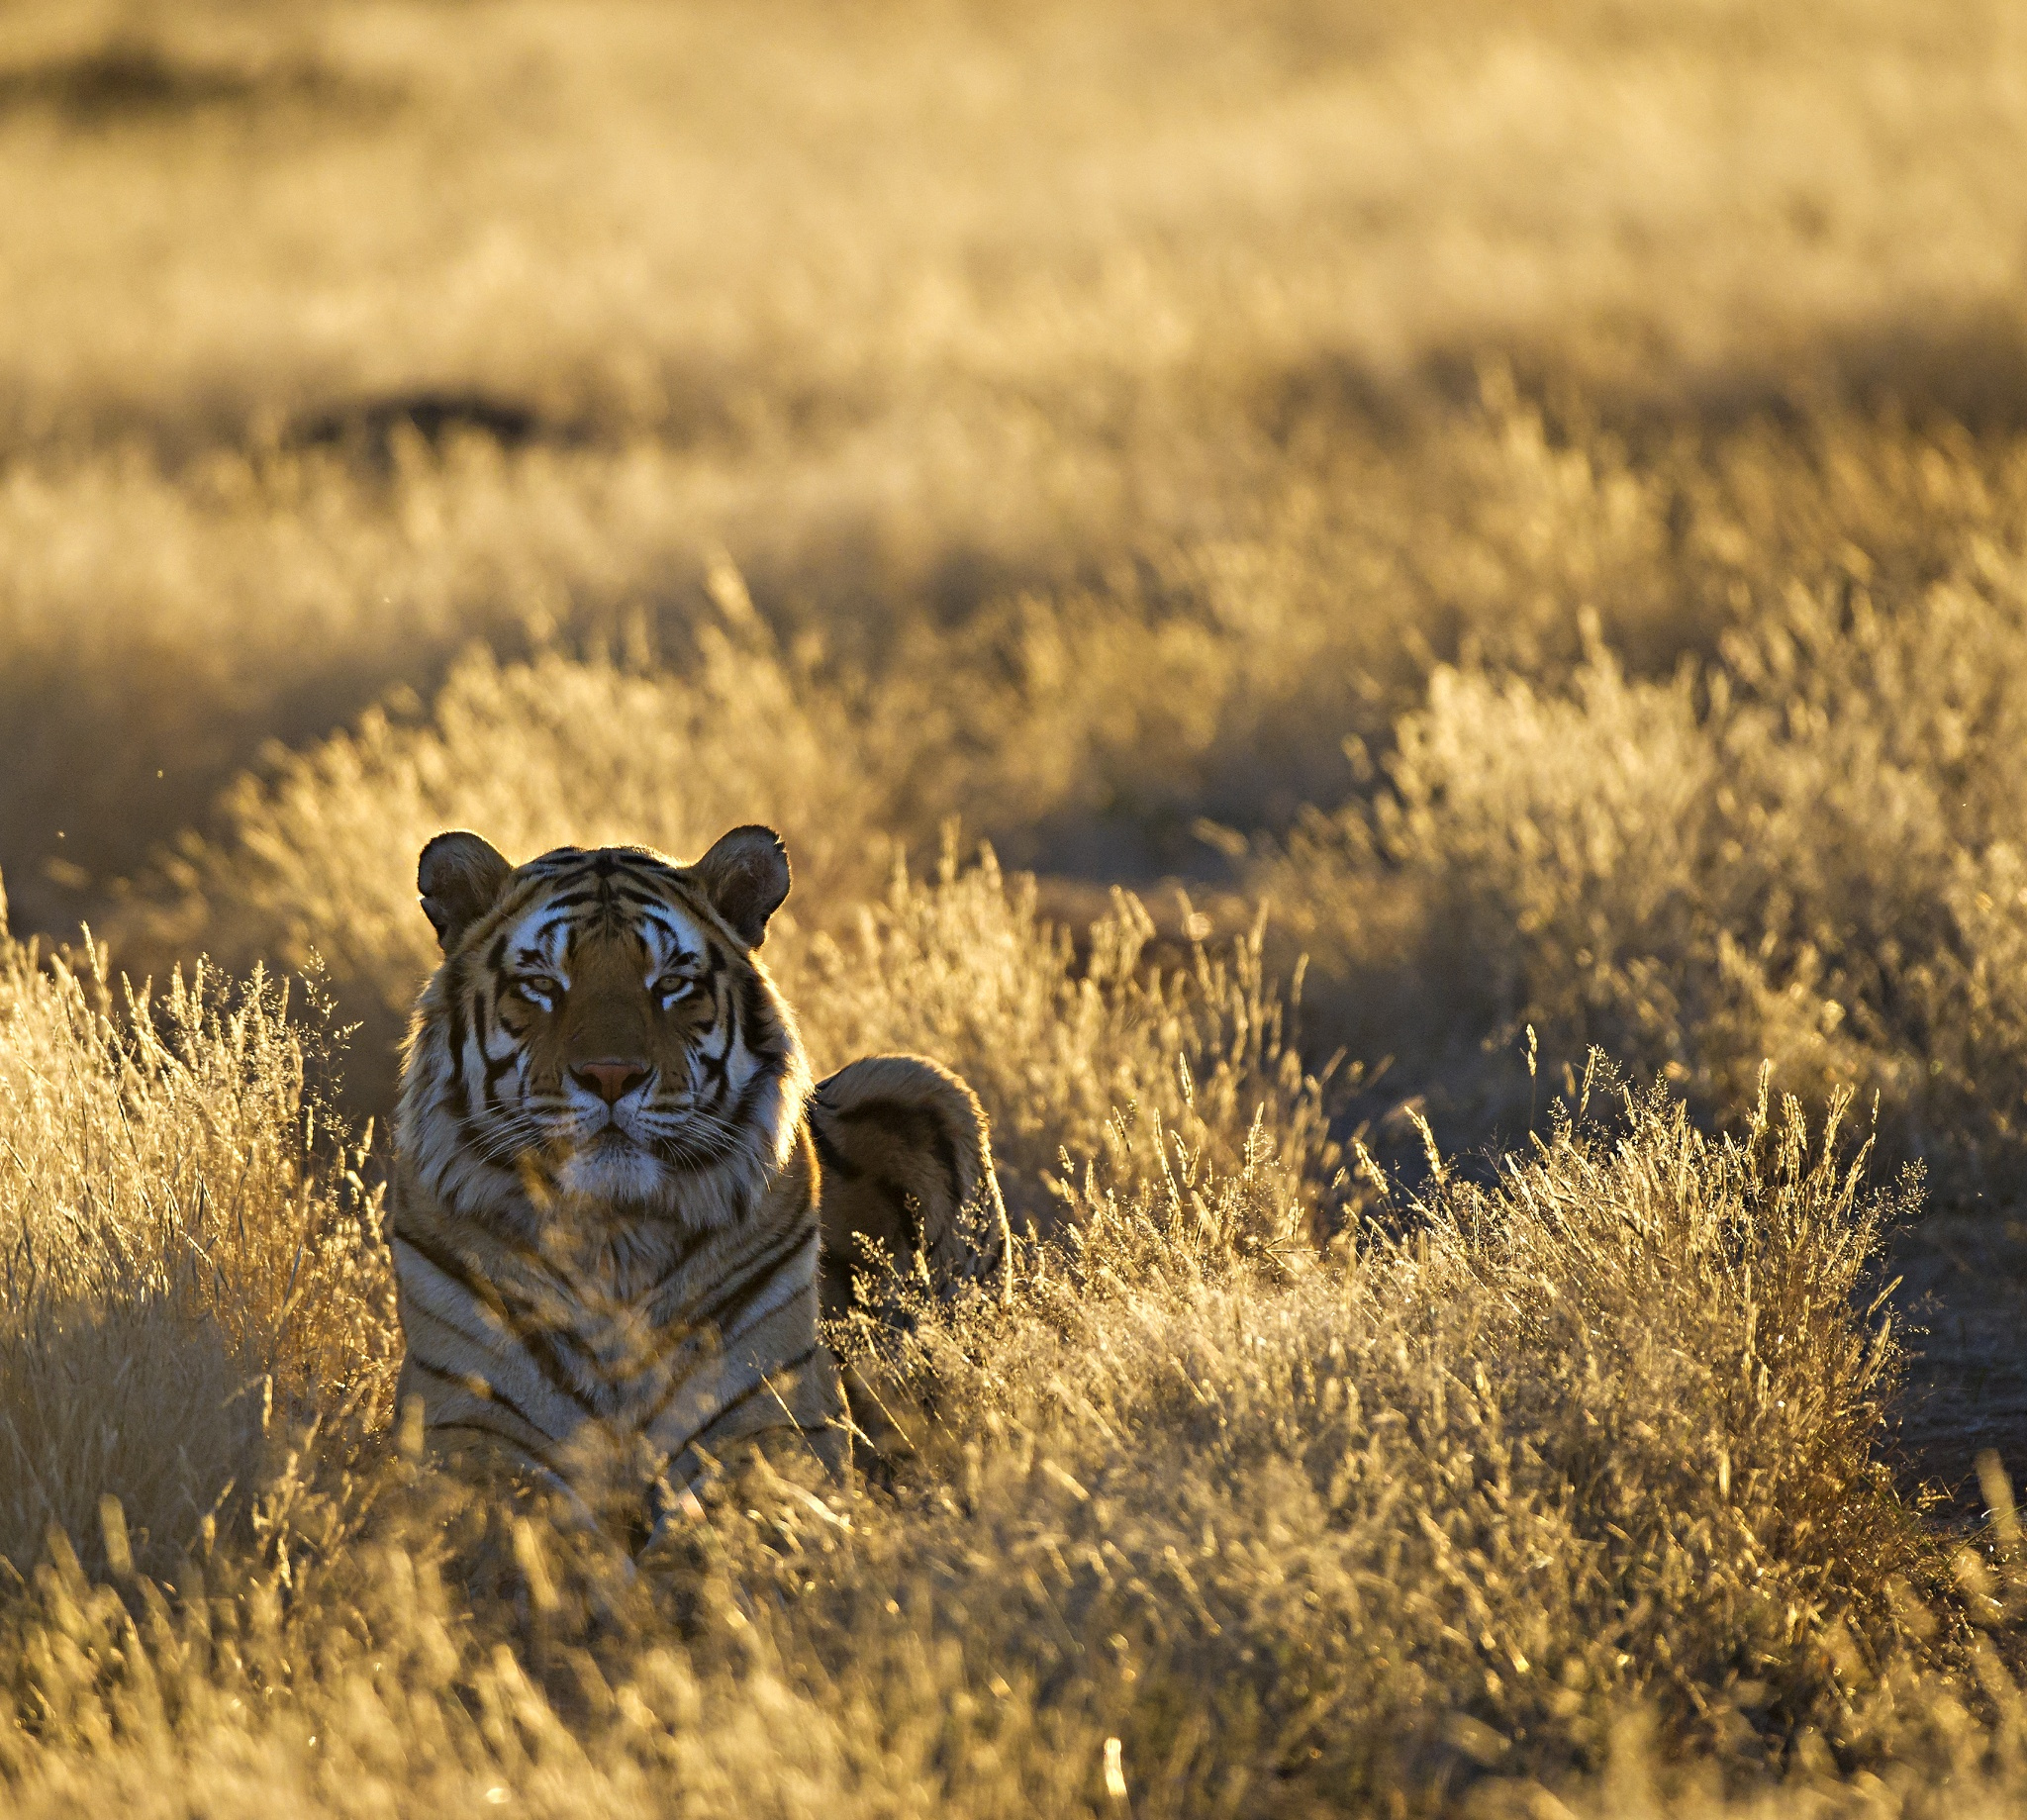tiger: (364, 831, 1059, 1611)
